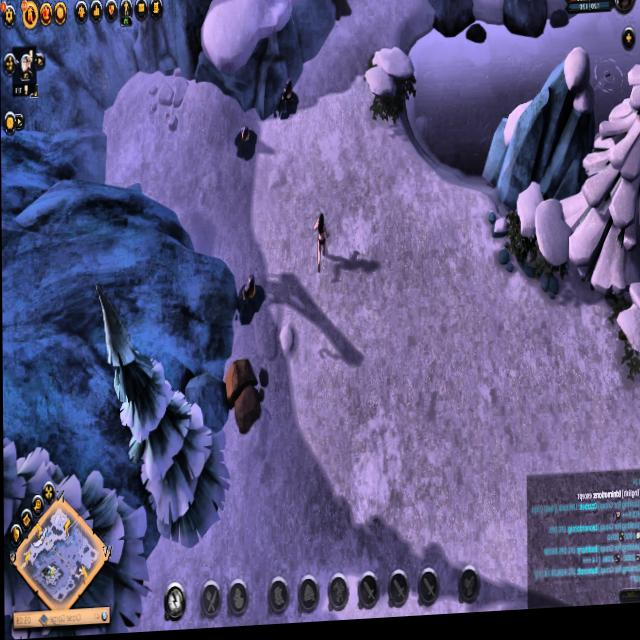copper_ore: (232, 270, 267, 336), (225, 125, 263, 167), (273, 78, 301, 131)
limestone: (218, 357, 270, 443)
